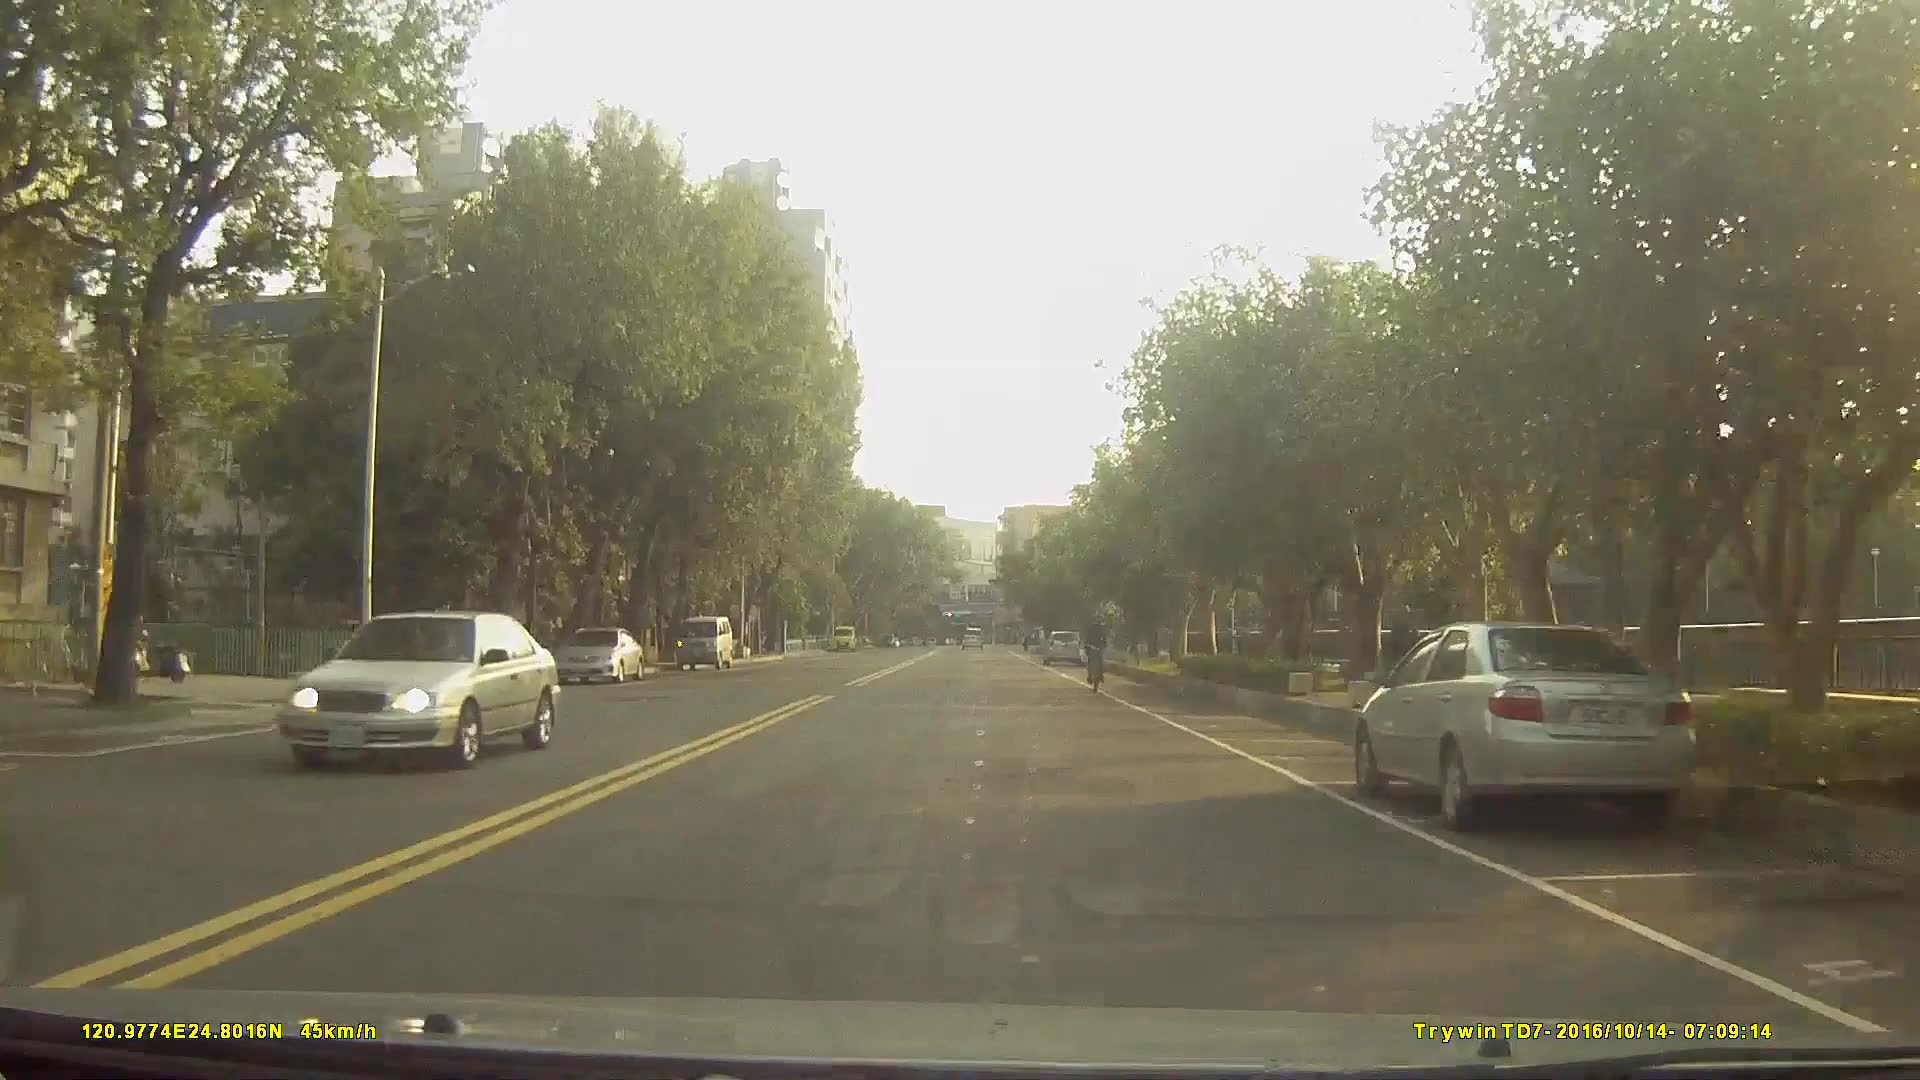rider: (1084, 616, 1112, 700)
vehicle: (1348, 618, 1700, 834), (273, 608, 561, 767), (557, 626, 642, 687), (674, 617, 734, 672), (1041, 627, 1085, 666), (960, 623, 985, 649)
